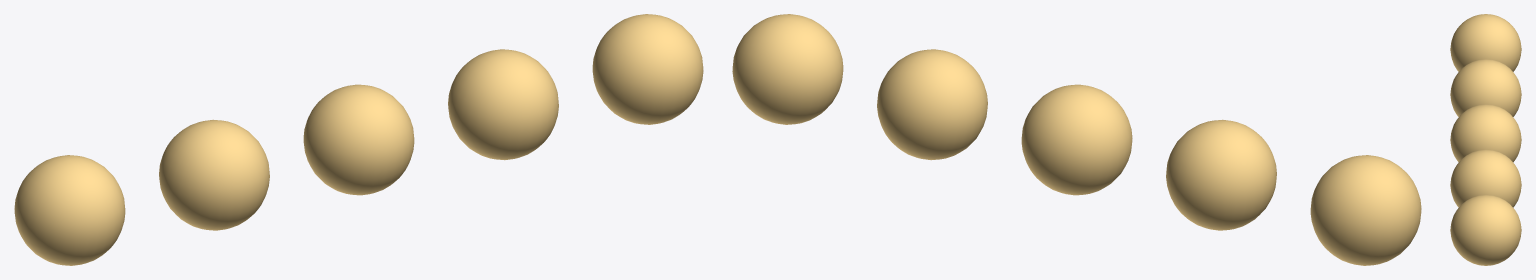
File: gold.gltf
3 views of the same model, side by side, from view 1: azimuth 30°, elevation 25°; view 2: azimuth 150°, elevation 25°; view 3: azimuth 270°, elevation 25° (orthographic). The views are drawn at different scales.
Parts seen in each view (by area): view 1: r-1, r-0, r-0 (2), r-0 (3), r-0 (1); view 2: r-0, r-0 (2), r-1, r-0 (3), r-0 (1); view 3: r-1, r-0 (2), r-0, r-0 (1), r-0 (3).
Part boxes in pixels (x1=…): r-1: x1=592, y1=14, x2=703, y2=124; r-0: x1=14, y1=155, x2=125, y2=265; r-0 (2): x1=303, y1=84, x2=414, y2=195; r-0 (3): x1=448, y1=49, x2=558, y2=160; r-0 (1): x1=159, y1=119, x2=269, y2=230; r-0: x1=1310, y1=155, x2=1421, y2=265; r-0 (2): x1=1021, y1=84, x2=1132, y2=195; r-1: x1=732, y1=14, x2=843, y2=124; r-0 (3): x1=877, y1=49, x2=987, y2=160; r-0 (1): x1=1166, y1=119, x2=1276, y2=230; r-1: x1=1450, y1=195, x2=1521, y2=265; r-0 (2): x1=1450, y1=104, x2=1521, y2=162; r-0: x1=1450, y1=14, x2=1521, y2=71; r-0 (1): x1=1450, y1=59, x2=1521, y2=116; r-0 (3): x1=1450, y1=149, x2=1521, y2=207.
Bounding box in the file's own units: 7 × 1 × 1.
